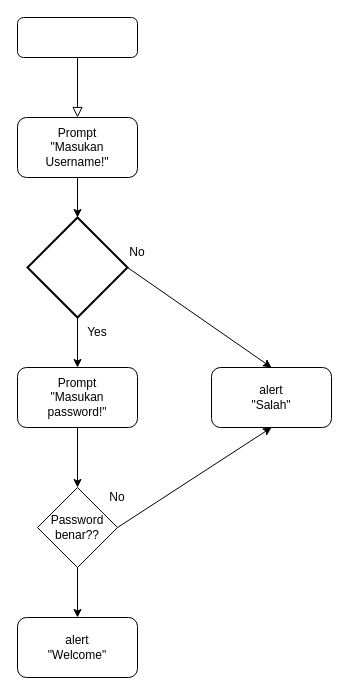
This 349x695 diagram has some shape labels left out. The box of each missing label's shape, as (x1, y1, x2, y2) in pixels:
Start: (16, 16, 138, 58)
Username benar?: (26, 216, 128, 318)
